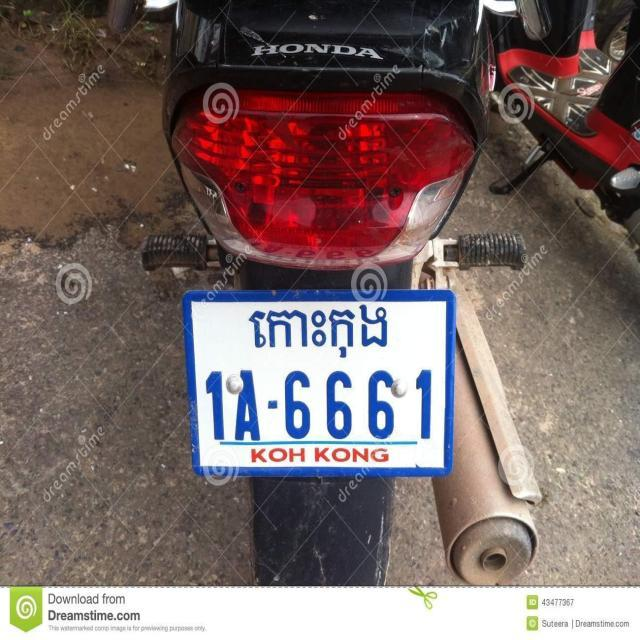Koh_Kong: (250, 302, 393, 364)
